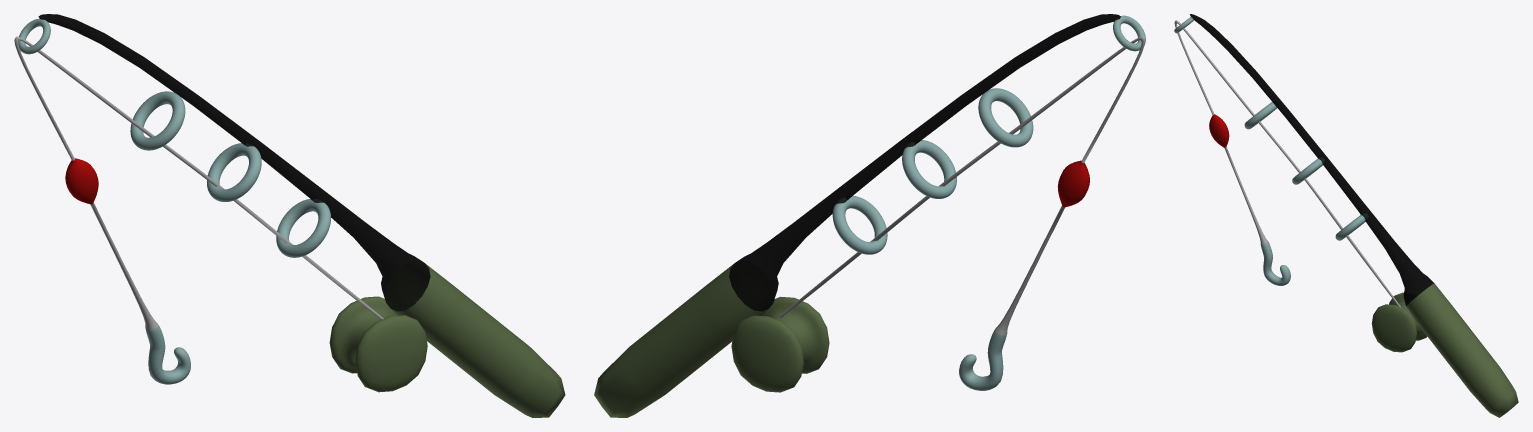
The model's file is fish-rod.obj.
The picture shows the model from 3 angles, left to right: view 1: azimuth 30°, elevation 25°; view 2: azimuth 150°, elevation 25°; view 3: azimuth 330°, elevation 25°; orthographic projection. The views are drawn at different scales.
Parts seen in each view (by area): view 1: FishRod.000_Cube.787, FishRod.001_Cube.788; view 2: FishRod.000_Cube.787, FishRod.001_Cube.788; view 3: FishRod.000_Cube.787, FishRod.001_Cube.788.
Part boxes in pixels (box(x1,y1,x2,y2)): FishRod.000_Cube.787: box(14, 14, 565, 417); FishRod.001_Cube.788: box(18, 18, 330, 257); FishRod.000_Cube.787: box(594, 14, 1145, 417); FishRod.001_Cube.788: box(832, 15, 1145, 254); FishRod.000_Cube.787: box(1174, 14, 1518, 417); FishRod.001_Cube.788: box(1174, 17, 1368, 240).
Bounding box in the file's own units: 4.71 × 4.3 × 0.5536.
